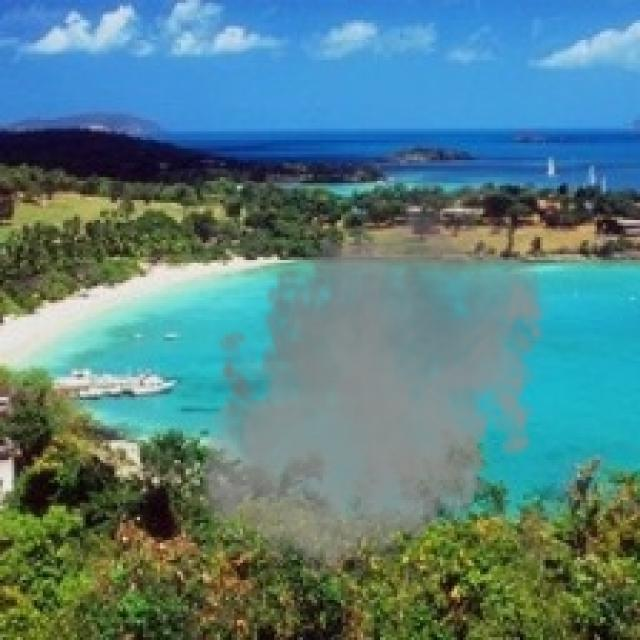Smoke: (194, 182, 557, 588)
